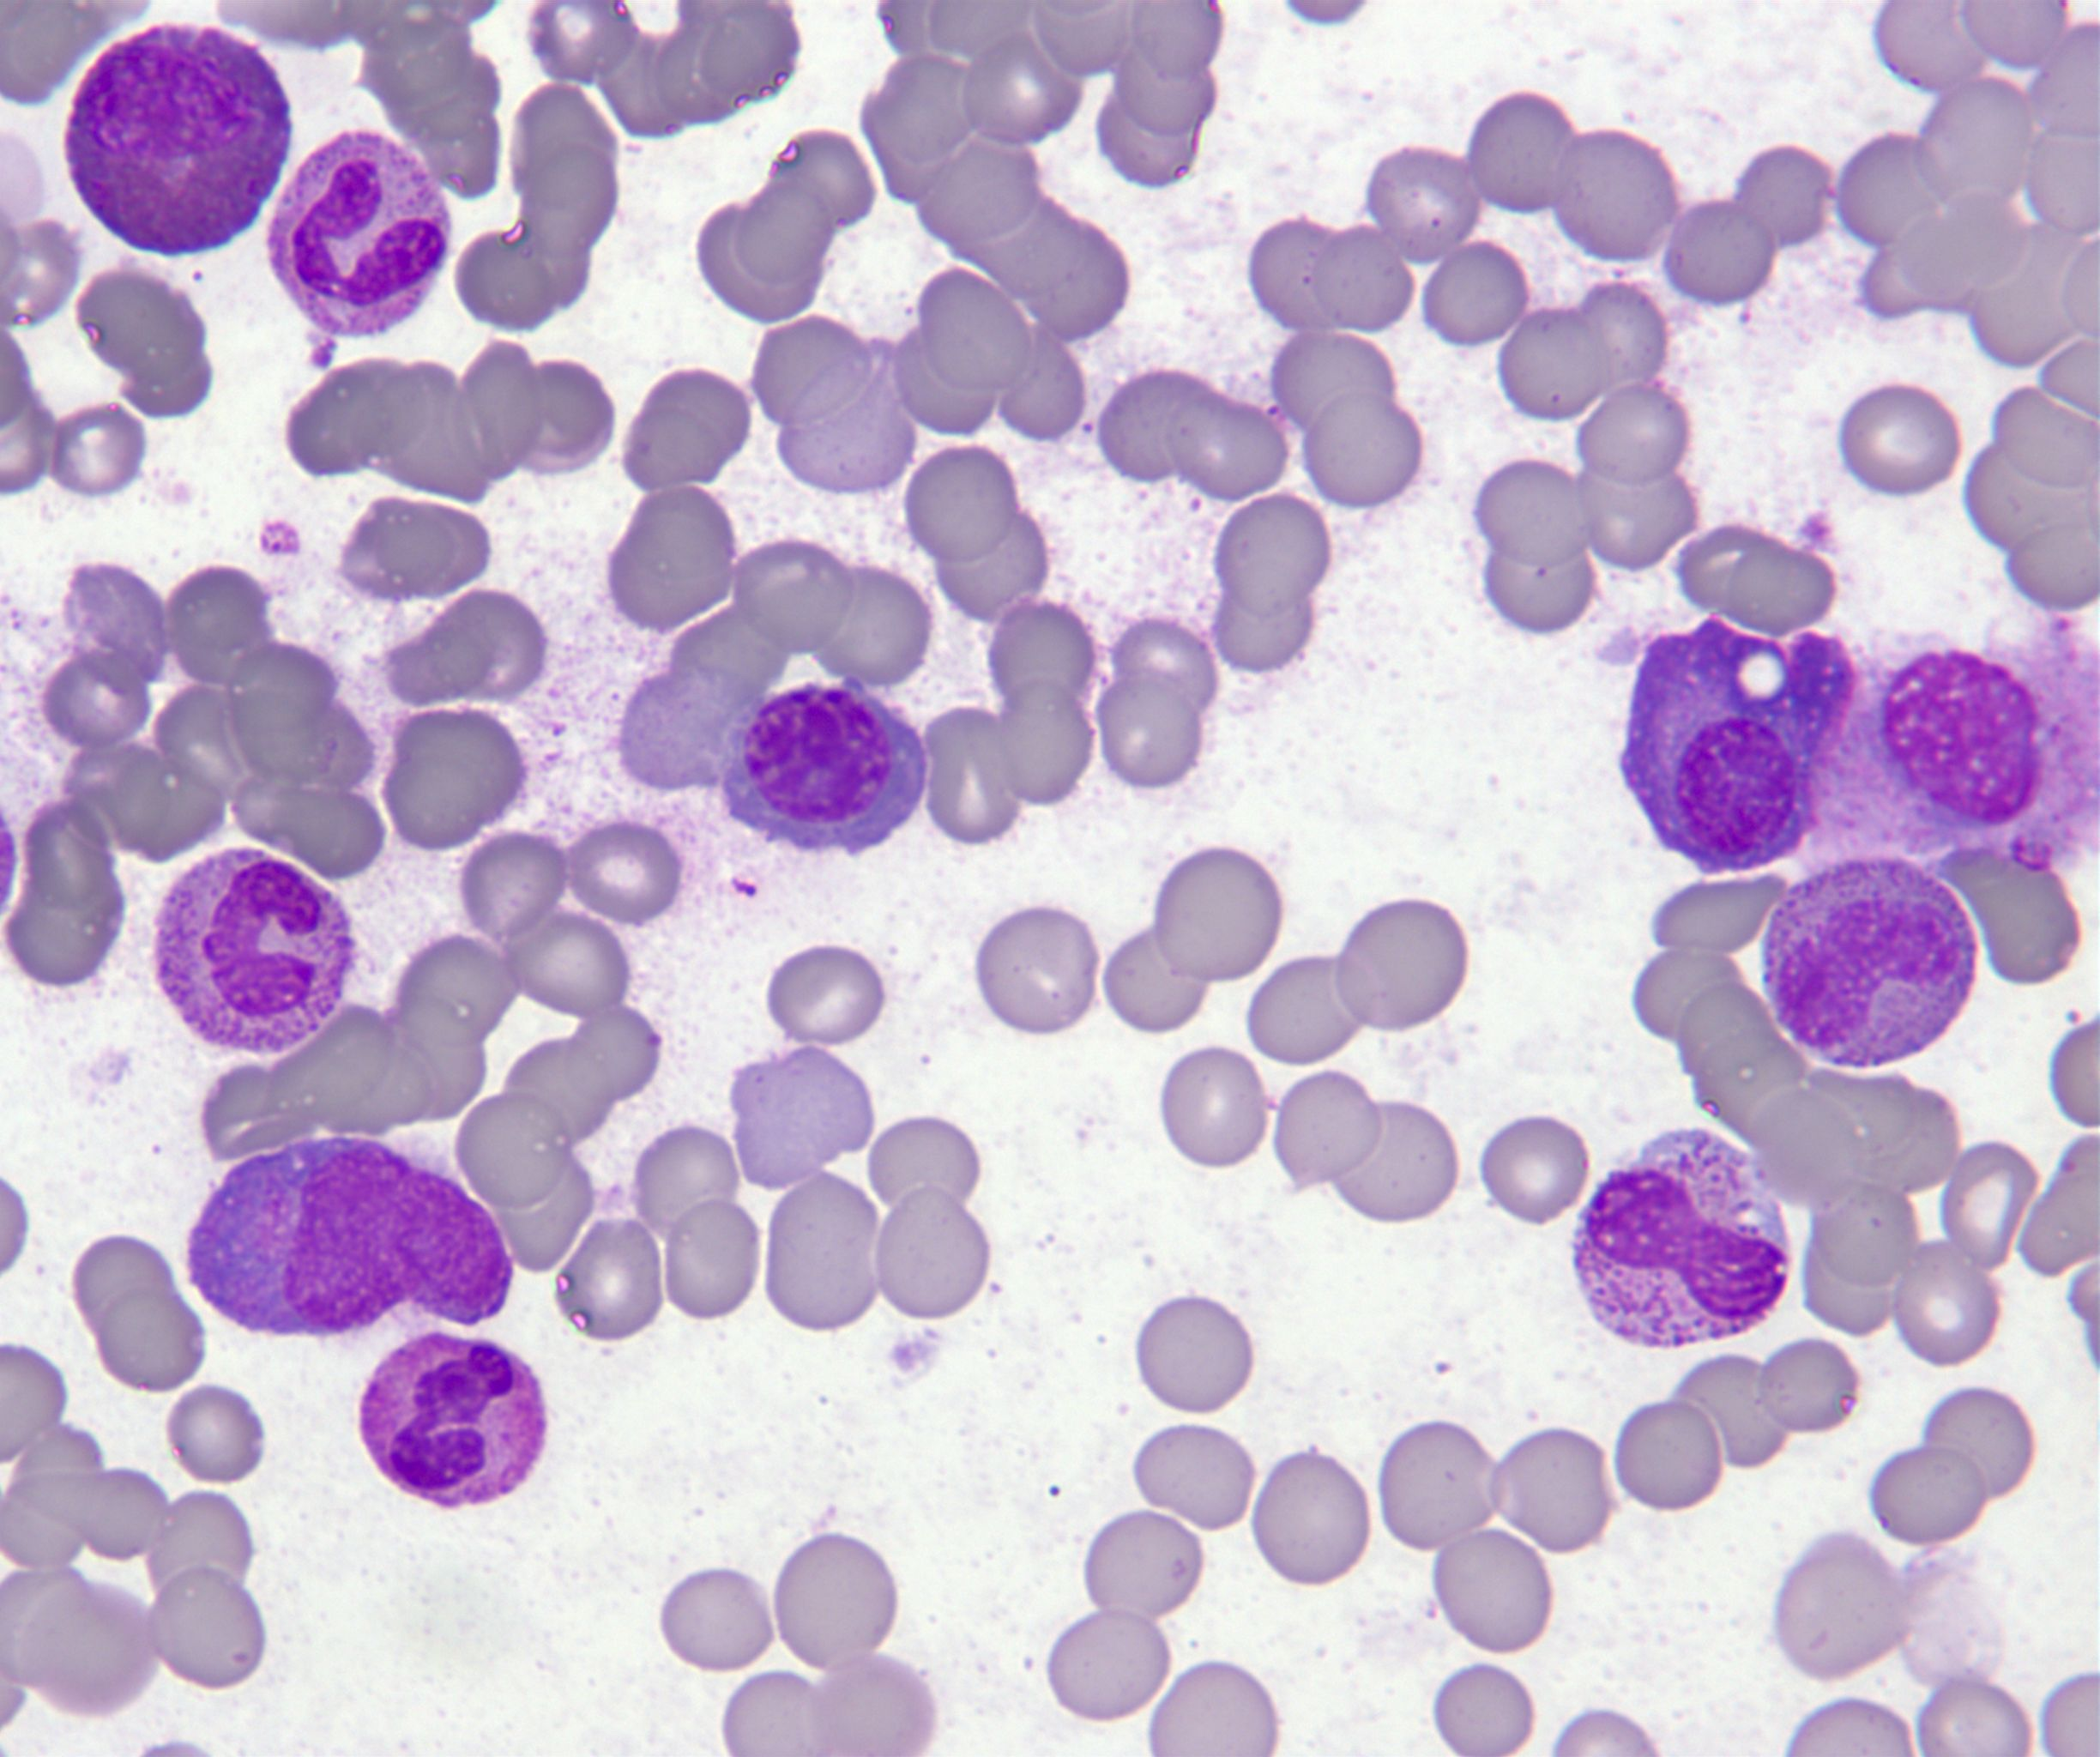2: (188, 1139, 511, 1340)
23: (724, 675, 926, 857)
4: (1575, 1131, 1790, 1349)
42: (1762, 857, 1976, 1068)
5: (272, 134, 448, 368), (153, 848, 351, 1054)
52: (1619, 616, 1854, 871)
6: (359, 1333, 544, 1509)
E2: (65, 28, 290, 258)
x: (1803, 609, 2100, 876)
